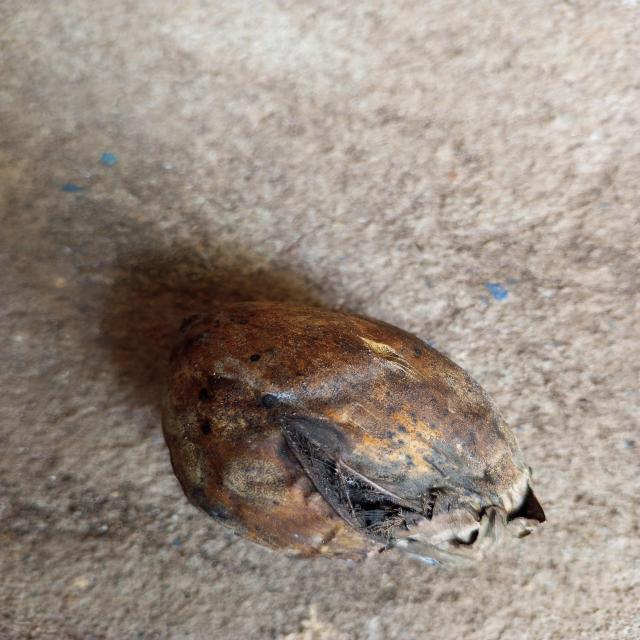damaged: (150, 298, 545, 561)
